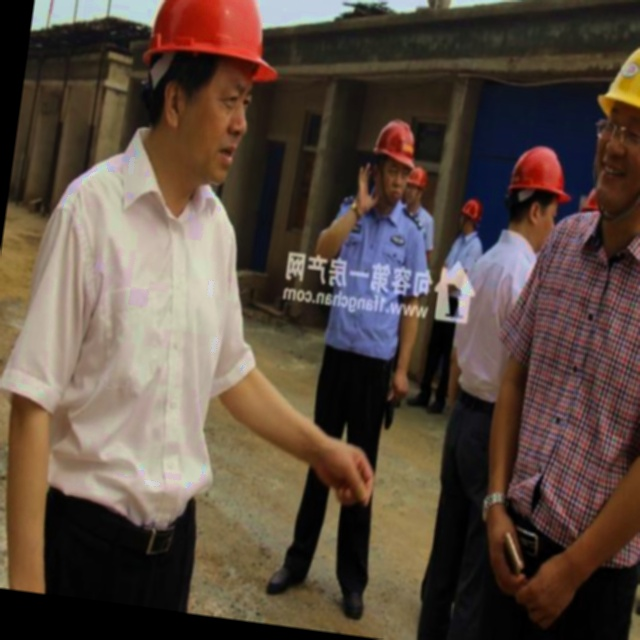Con_Casco: (130, 0, 288, 192), (579, 34, 640, 232)
Sin_Chaleco: (11, 152, 259, 514), (480, 206, 640, 571)
